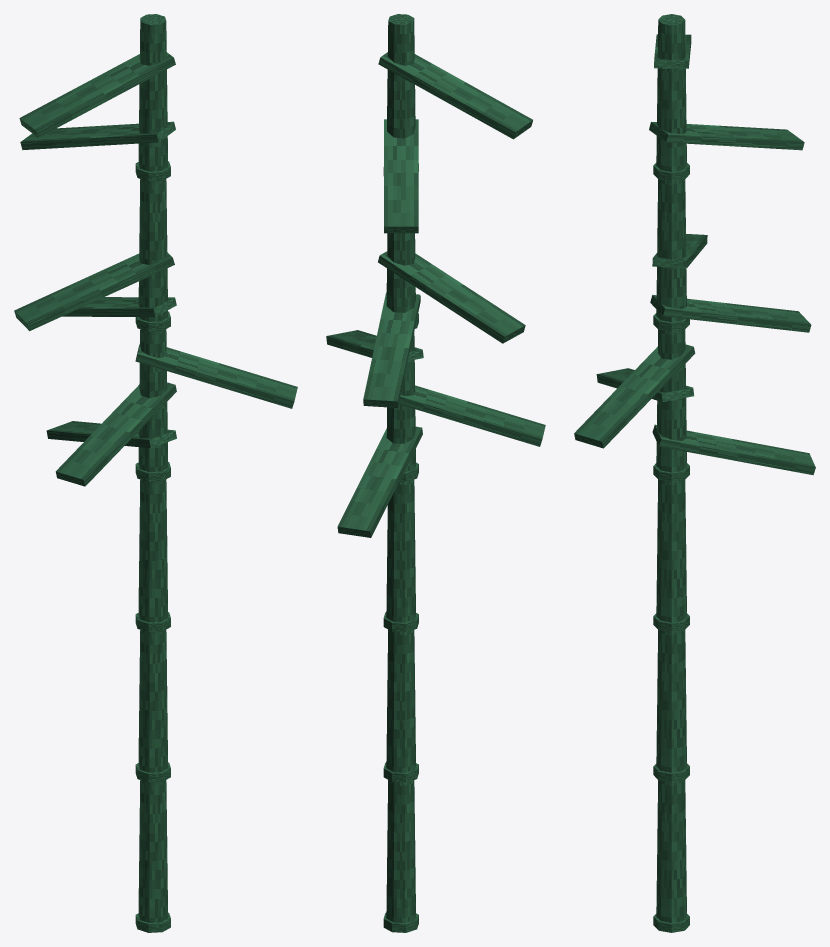
File: bamboo_37.glb
3 renders of one model, left to right at view 1: azimuth 30°, elevation 25°; view 2: azimuth 150°, elevation 25°; view 3: azimuth 270°, elevation 25°, orthographic.
Visible parts, largest first — view 1: Leaf.001, Stem.001, Stem.002, Stem, Leaf.003, Leaf.002, Stem.005, Leaf.004, Stem.004, Stem.003, Leaf.006, Leaf.005 (+1 smaller); view 2: Stem.001, Stem, Leaf.002, Leaf.003, Leaf, Stem.002, Leaf.005, Leaf.006, Leaf.001, Stem.005, Stem.004, Stem.003 (+1 smaller); view 3: Stem.002, Stem, Stem.001, Leaf.004, Stem.005, Stem.004, Leaf, Stem.003, Leaf.005, Leaf.006, Leaf.001, Leaf.002 (+1 smaller).
Boxes of the visible parts, <box> form: Leaf.001: <box>55,382,176,486</box>; Stem.001: <box>138,630,168,772</box>; Stem.002: <box>138,479,168,622</box>; Stem: <box>138,780,168,922</box>; Leaf.003: <box>19,52,175,137</box>; Leaf.002: <box>14,252,174,331</box>; Stem.005: <box>138,14,168,171</box>; Leaf.004: <box>135,344,297,408</box>; Stem.004: <box>138,179,168,321</box>; Stem.003: <box>138,329,168,472</box>; Leaf.006: <box>20,121,175,150</box>; Leaf.005: <box>62,297,176,316</box>; Stem.001: <box>386,629,415,772</box>; Stem: <box>386,780,415,922</box>; Leaf.002: <box>378,251,525,343</box>; Leaf.003: <box>378,52,532,139</box>; Leaf: <box>337,426,422,537</box>; Stem.002: <box>386,479,415,622</box>; Leaf.005: <box>363,292,420,407</box>; Leaf.006: <box>384,119,418,233</box>; Leaf.001: <box>399,385,545,446</box>; Stem.005: <box>387,14,415,138</box>; Stem.004: <box>386,233,415,312</box>; Stem.003: <box>386,332,415,472</box>; Stem.002: <box>656,479,686,622</box>; Stem: <box>656,780,686,922</box>; Stem.001: <box>656,630,686,772</box>; Leaf.004: <box>574,344,695,448</box>; Stem.005: <box>656,14,686,171</box>; Stem.004: <box>656,179,686,322</box>; Leaf: <box>652,424,815,475</box>; Stem.003: <box>656,329,686,472</box>; Leaf.005: <box>650,294,811,332</box>; Leaf.006: <box>649,122,804,150</box>; Leaf.001: <box>596,368,694,402</box>; Leaf.002: <box>652,234,707,268</box>.
Size of the model in its own units: 1.41 by 5.19 by 1.26.
1 material, 1 textured.
